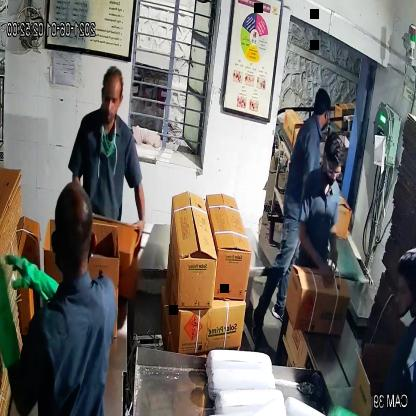goggles: (324, 157, 344, 181)
no_goggles: (99, 89, 124, 111)
